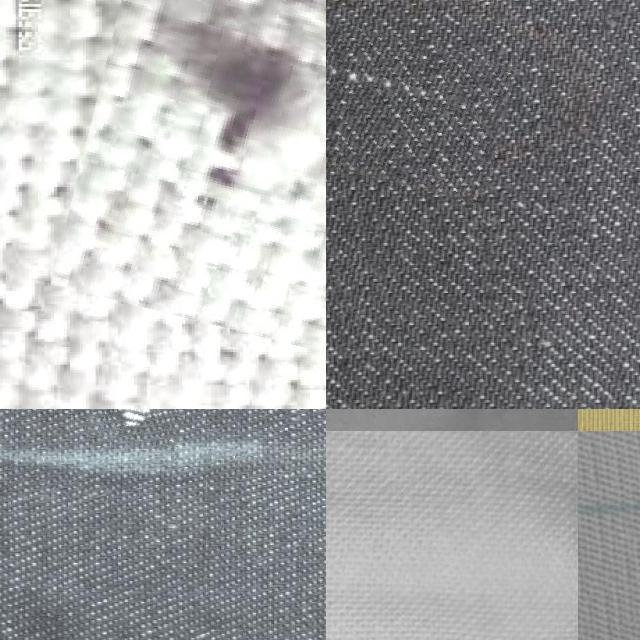Thread_other: (70, 0, 326, 348), (326, 0, 510, 182), (89, 409, 191, 448)
